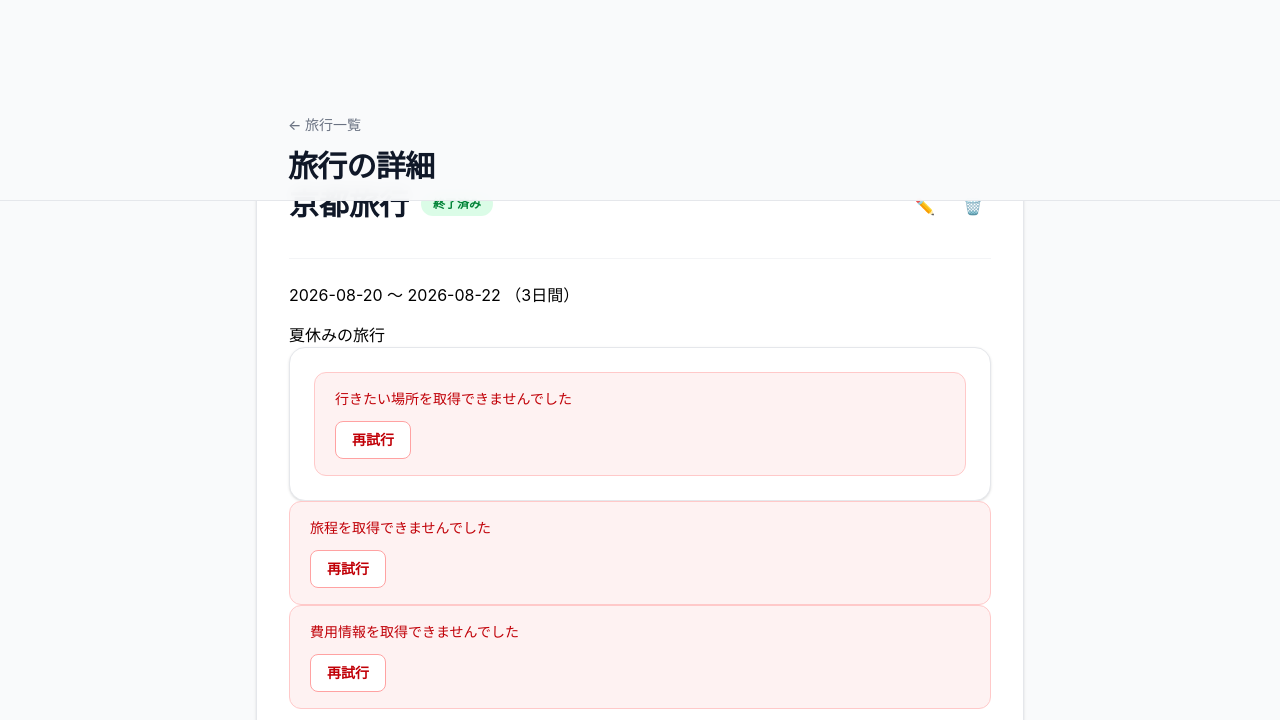
Scenario: TripDetailPage › 削除成功後に完了モーダルを表示する
Check: the heading "京都旅行" is shown, box left=289, top=186, right=409, bottom=222
Step 1. Click the button named "旅行を削除" → (973, 206), box left=955, top=186, right=991, bottom=226
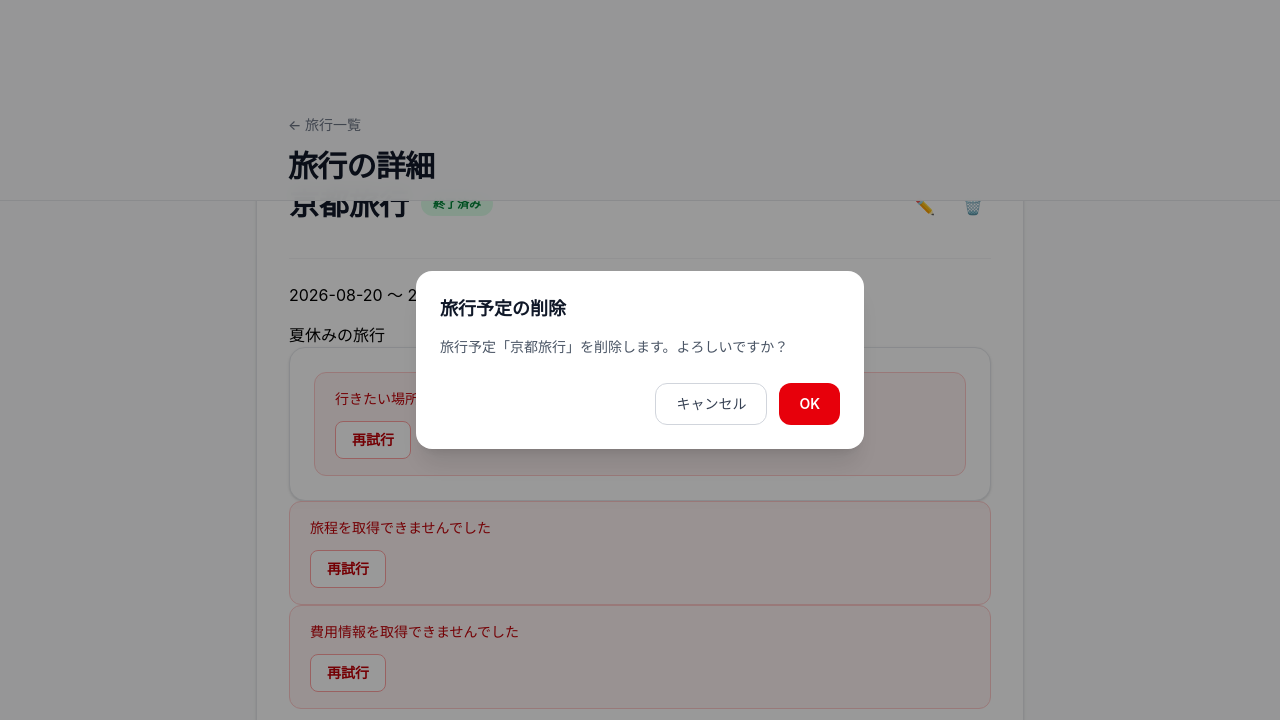
Step 2. Click the button "OK" → (810, 404), box left=779, top=383, right=840, bottom=425
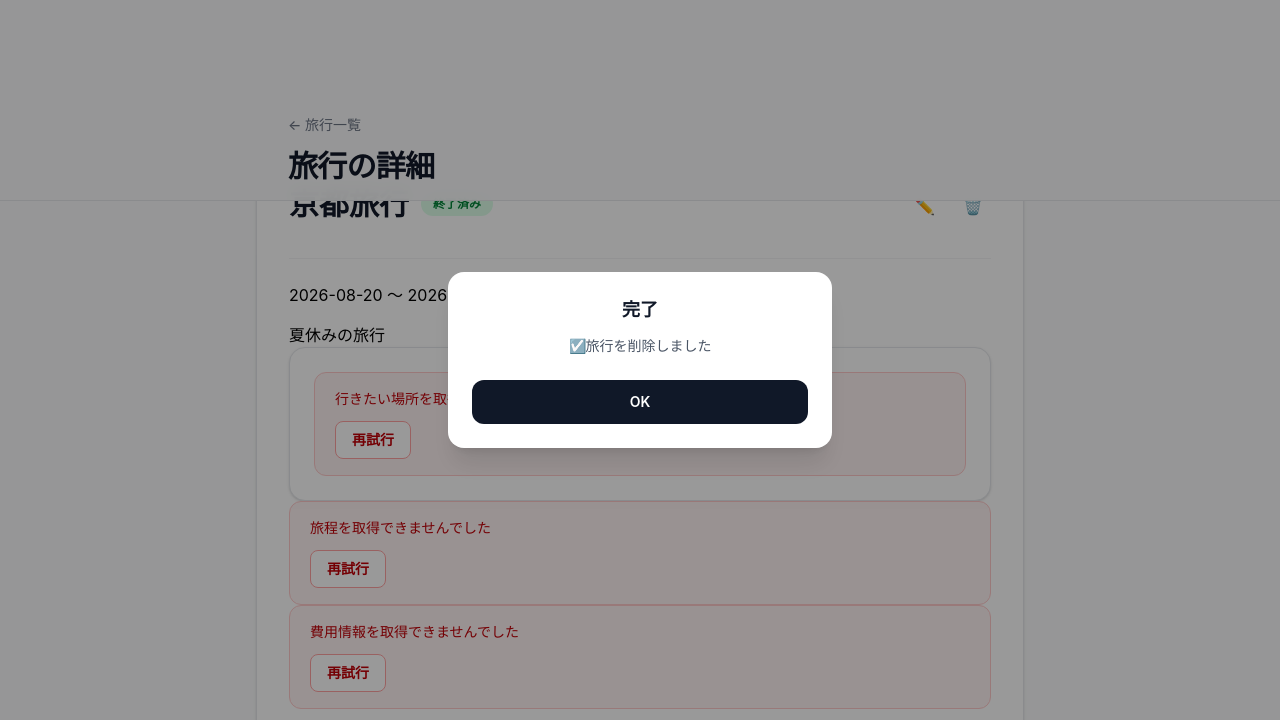
Check: the text "☑️旅行を削除しました" is shown, box left=568, top=337, right=712, bottom=354
